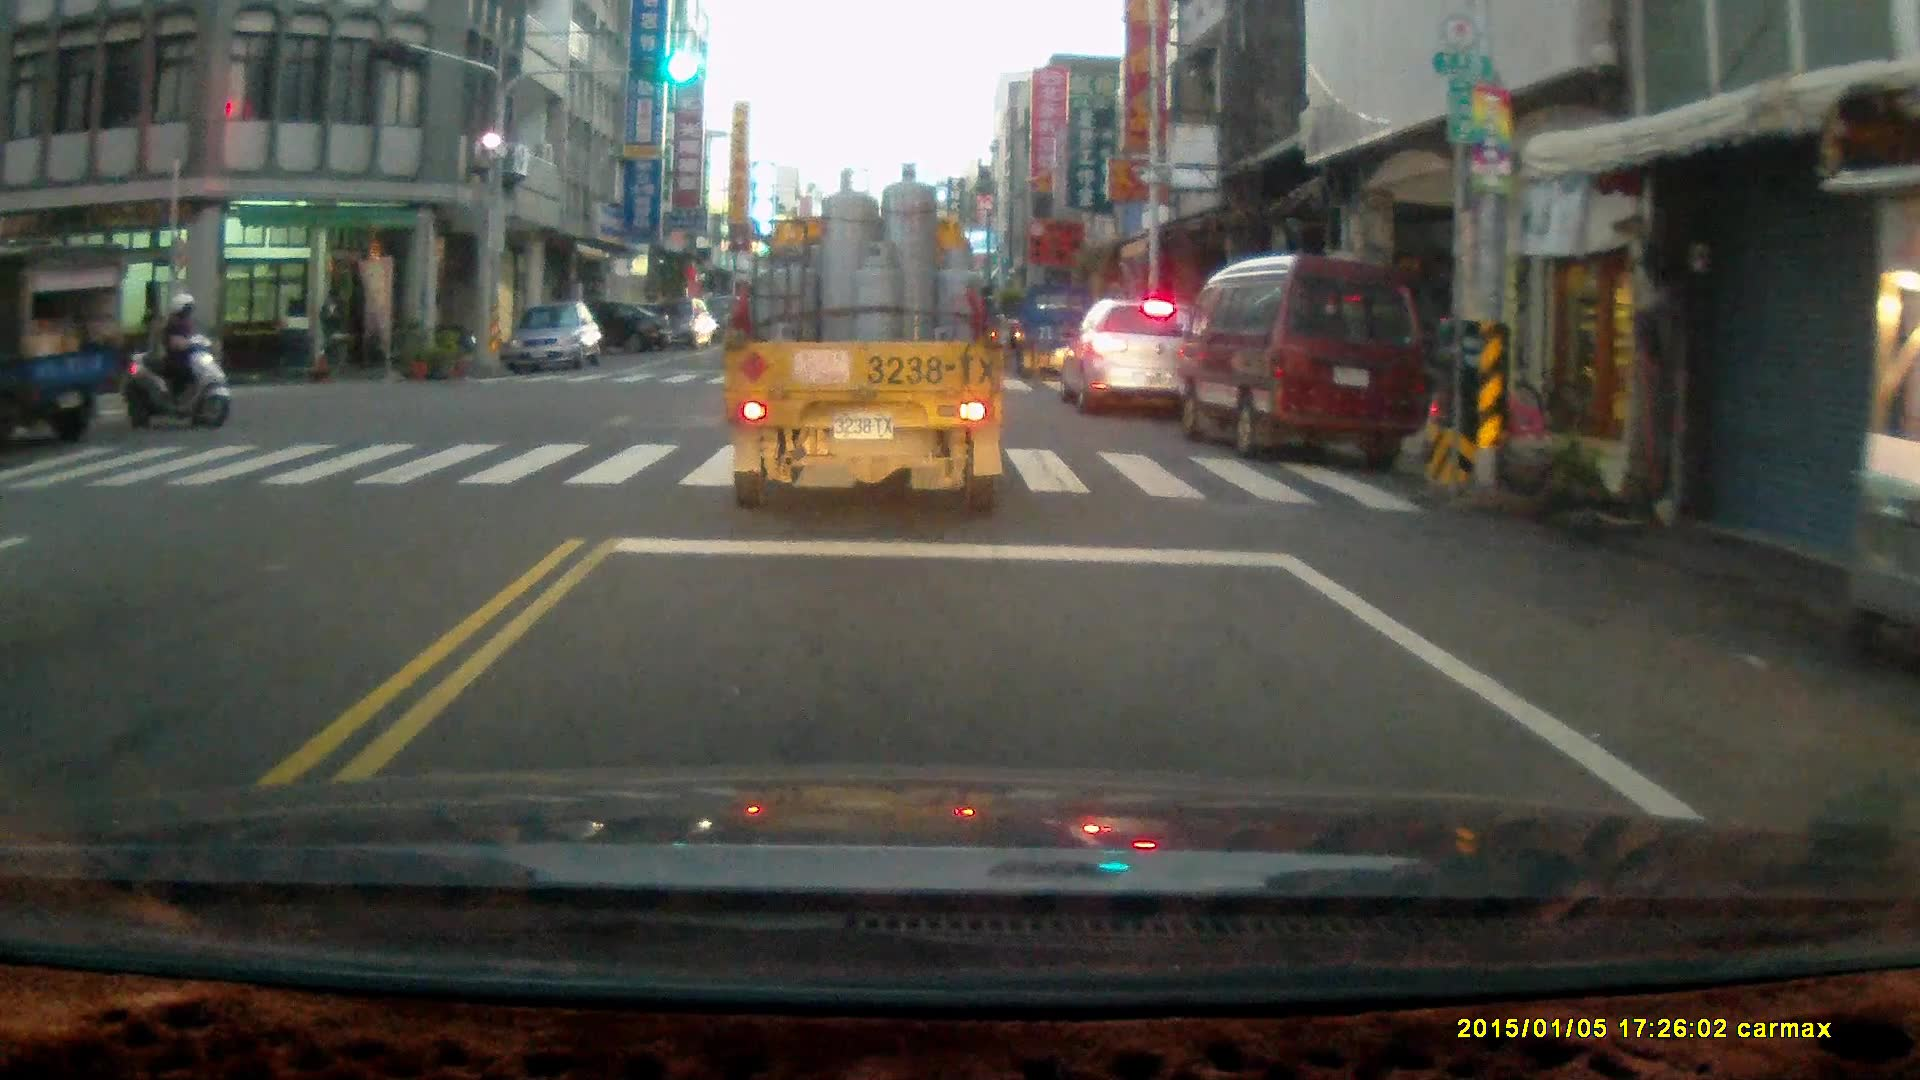pedestrian: (315, 282, 349, 381)
rider: (118, 289, 229, 425)
vehicle: (725, 162, 1014, 514), (1184, 250, 1438, 464), (1, 247, 126, 439), (1061, 289, 1219, 422), (1014, 283, 1100, 384), (504, 301, 605, 380), (540, 298, 671, 358), (632, 296, 716, 347)
